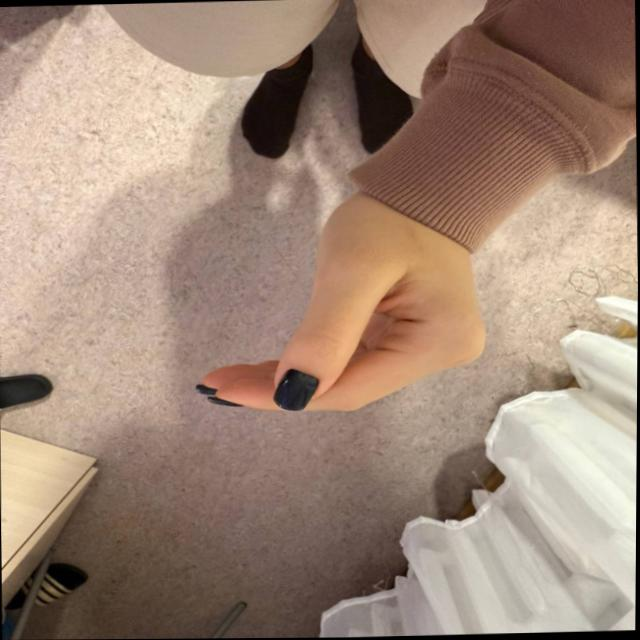f: (179, 189, 501, 441)
